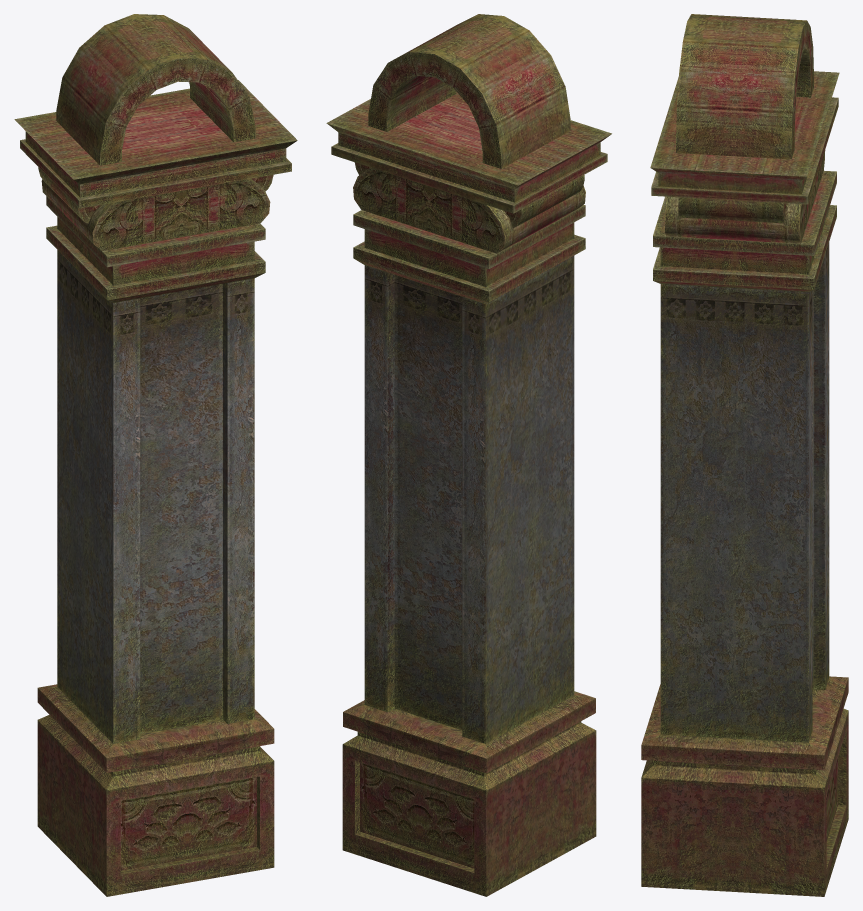
Rendered from 2st_pillar_001.fbx.
3 renders of one model, left to right at view 1: azimuth 30°, elevation 25°; view 2: azimuth 150°, elevation 25°; view 3: azimuth 270°, elevation 25°, orthographic. The views are drawn at different scales.
Parts seen in each view (by area): view 1: 4st_pillar_001; view 2: 4st_pillar_001; view 3: 4st_pillar_001.
Part boxes in pixels (<box>): 4st_pillar_001: <box>14,14,297,896</box>; 4st_pillar_001: <box>326,14,611,896</box>; 4st_pillar_001: <box>641,14,848,896</box>.
Size of the model in its own units: 5.23 by 17.94 by 4.07.
